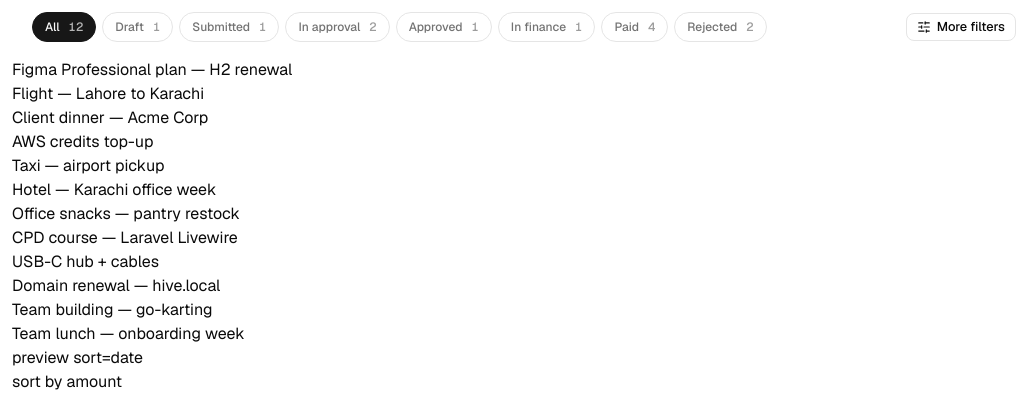
Test case: ExpenseFilterSection quick chips › filters to exactly the chosen status when a chip is pressed
Click the button "Paid 4" at (635, 27), box x1=601 y1=12 x2=668 y2=42
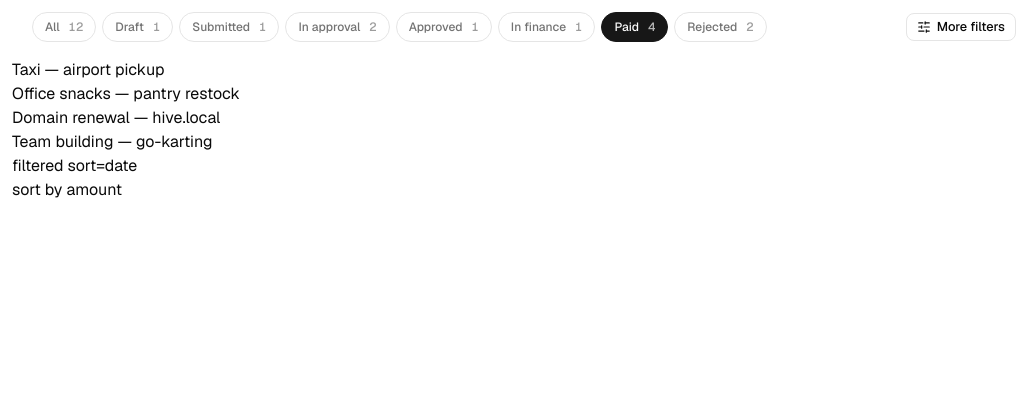
Expected: the list item "Office snacks — pantry restock" is shown, x1=12 y1=83 x2=240 y2=104
Expected: the number of list items is 4, x1=12 y1=59 x2=165 y2=80; x1=12 y1=83 x2=240 y2=104; x1=12 y1=107 x2=220 y2=128; x1=12 y1=131 x2=212 y2=152
